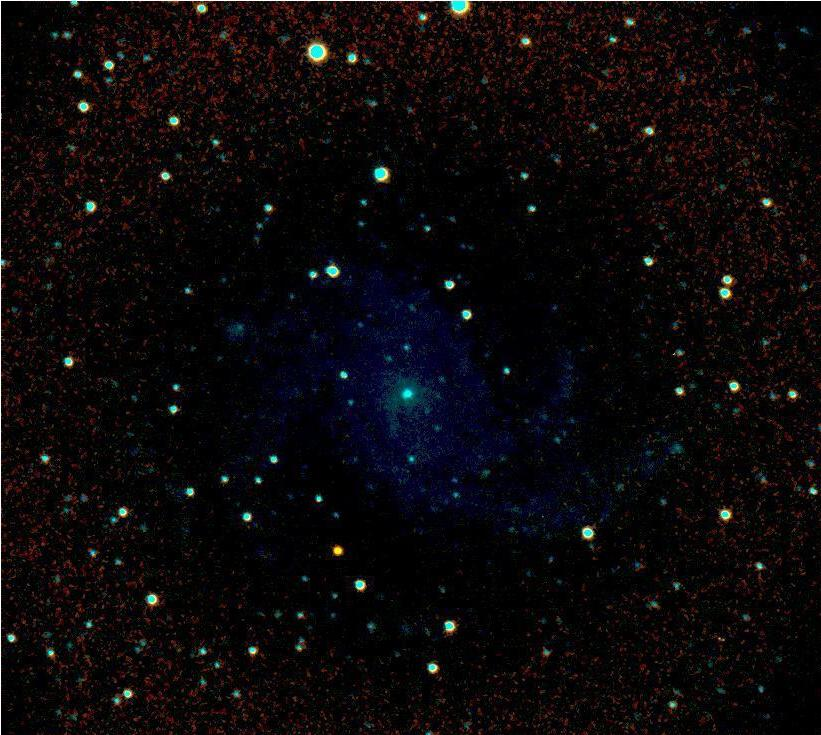star: (319, 535, 349, 565)
